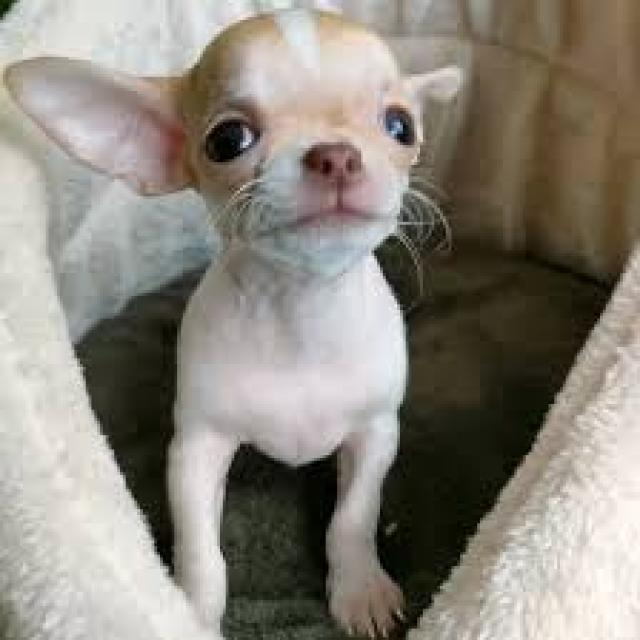dog: (6, 11, 464, 640)
